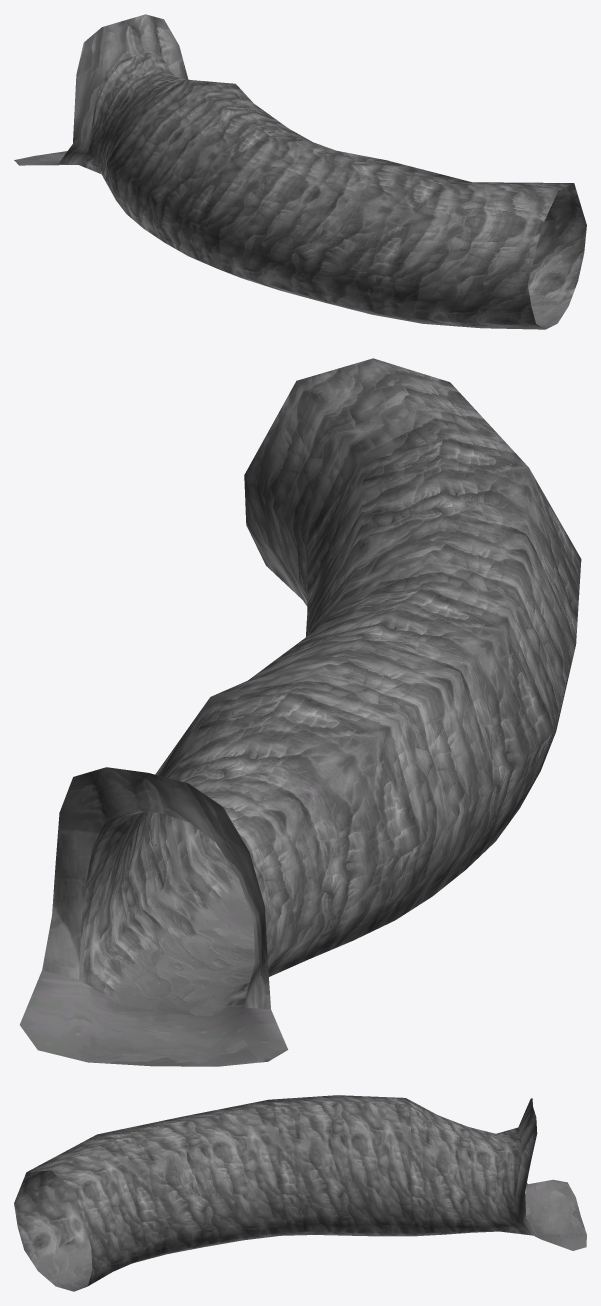
File: SWORDLIGHT20_PS-AREA03-05TRANS_04.fbx
The picture shows the model from 3 angles, top to bottom: view 1: azimuth 30°, elevation 25°; view 2: azimuth 150°, elevation 25°; view 3: azimuth 270°, elevation 25°; orthographic projection. The views are drawn at different scales.
Parts seen in each view (by area): view 1: SWORDLIGHT20_PS-AREA03-05TRANS_04; view 2: SWORDLIGHT20_PS-AREA03-05TRANS_04; view 3: SWORDLIGHT20_PS-AREA03-05TRANS_04.
Part boxes in pixels (bbox=[...]): SWORDLIGHT20_PS-AREA03-05TRANS_04: bbox=[14, 14, 586, 329]; SWORDLIGHT20_PS-AREA03-05TRANS_04: bbox=[20, 358, 581, 1066]; SWORDLIGHT20_PS-AREA03-05TRANS_04: bbox=[14, 1095, 586, 1291].
Bounding box in the file's own units: 63524 × 30247 × 124534.
3 materials, 3 textured.
